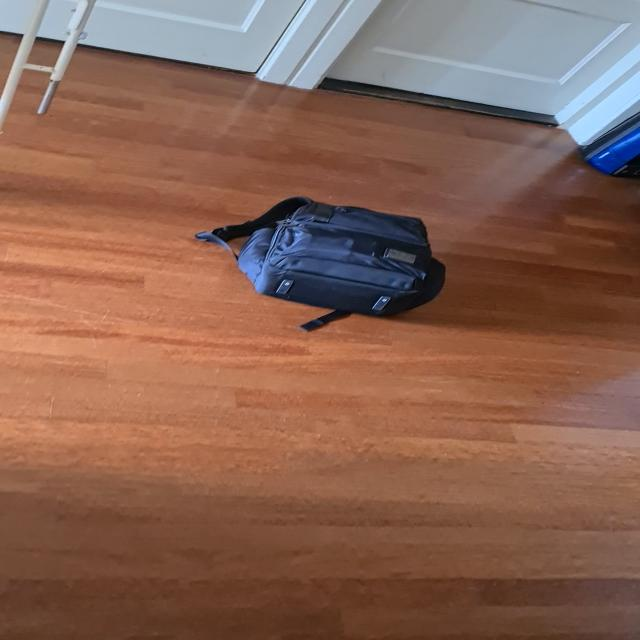backpack: (225, 193, 453, 321)
